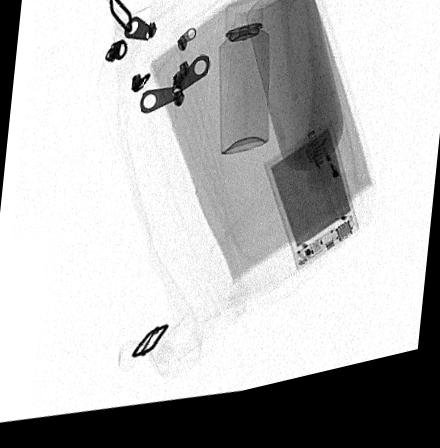Lighter: (305, 145, 353, 242)
Powerbank: (265, 132, 359, 283)
Sprayer: (219, 7, 269, 163)
